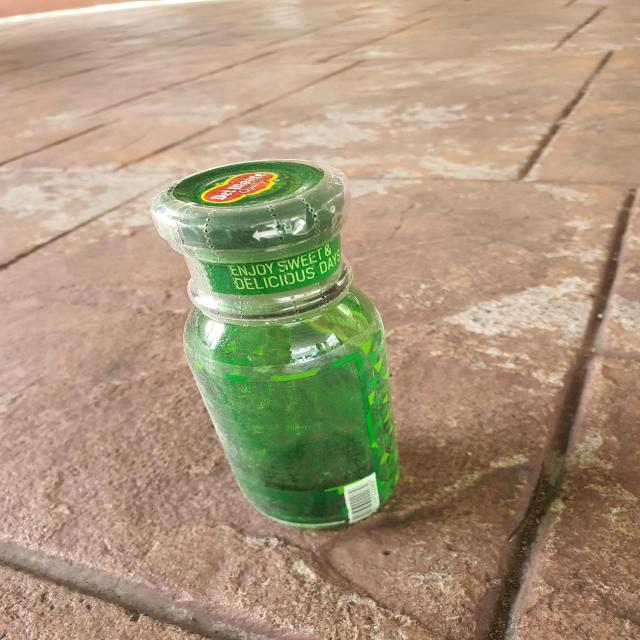glass: (151, 160, 398, 528)
